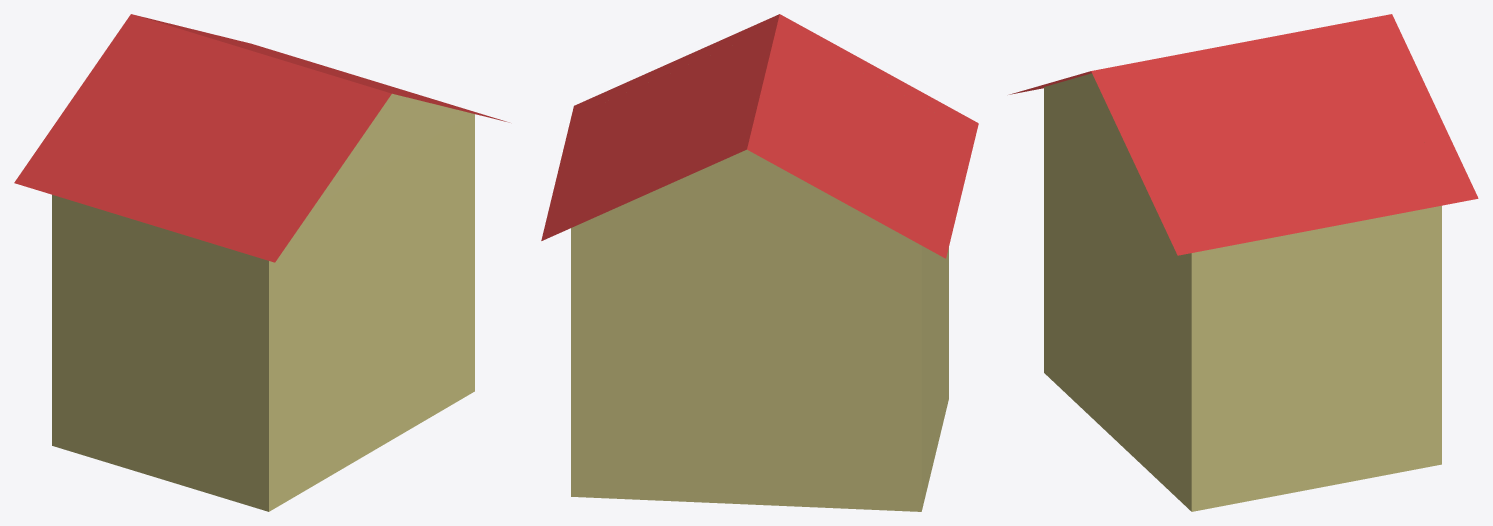
The picture shows the model from 3 angles, left to right: view 1: azimuth 30°, elevation 25°; view 2: azimuth 150°, elevation 25°; view 3: azimuth 270°, elevation 25°; orthographic projection. The views are drawn at different scales.
Size of the model in its own units: 13.83 by 12.66 by 11.11.
